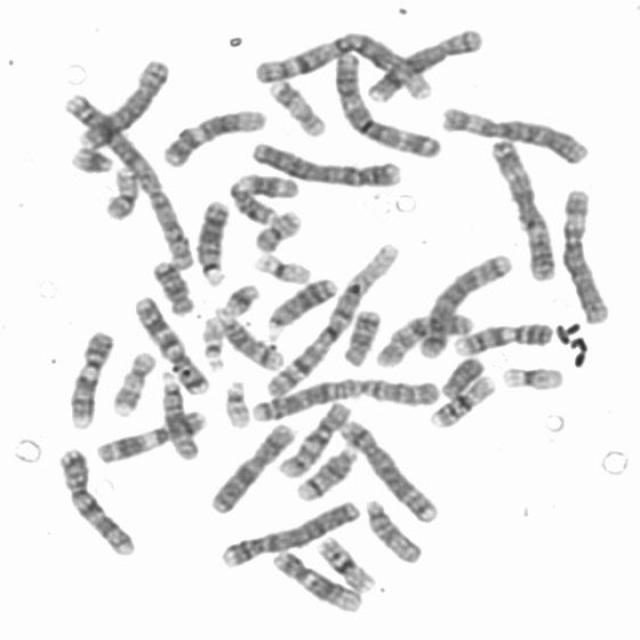A1: (261, 236, 404, 399), (250, 26, 437, 102)
A2: (59, 86, 198, 272), (247, 371, 442, 423)
A3: (328, 45, 447, 159), (484, 132, 558, 282)
B4: (216, 494, 363, 570), (246, 134, 404, 188)
B5: (333, 413, 441, 525), (413, 246, 514, 361)
C10: (274, 395, 353, 480), (372, 306, 476, 370)
C11: (90, 404, 209, 465), (223, 167, 303, 226)
C12: (156, 102, 270, 168), (267, 545, 366, 614)
C6: (437, 100, 592, 166), (555, 182, 615, 326)
C7: (50, 442, 137, 558), (128, 291, 213, 397)
C8: (362, 23, 487, 104), (72, 53, 173, 150)
C9: (63, 325, 116, 431), (448, 316, 555, 357)
D13: (262, 271, 341, 336), (192, 194, 233, 287)
D14: (210, 308, 288, 372), (292, 440, 361, 502)
D15: (360, 494, 425, 565), (156, 369, 201, 462)
E16: (424, 371, 498, 430), (312, 530, 378, 594)
E17: (263, 74, 329, 139), (107, 346, 158, 418)
E18: (147, 254, 198, 316), (337, 303, 384, 368)
F19: (248, 247, 314, 286), (496, 360, 567, 393)
F20: (249, 204, 305, 253), (100, 162, 140, 222)
G21: (212, 277, 263, 318), (65, 141, 117, 175)
G22: (218, 374, 254, 430), (196, 310, 228, 371)
X: (204, 417, 300, 516)
Y: (436, 351, 487, 399)
